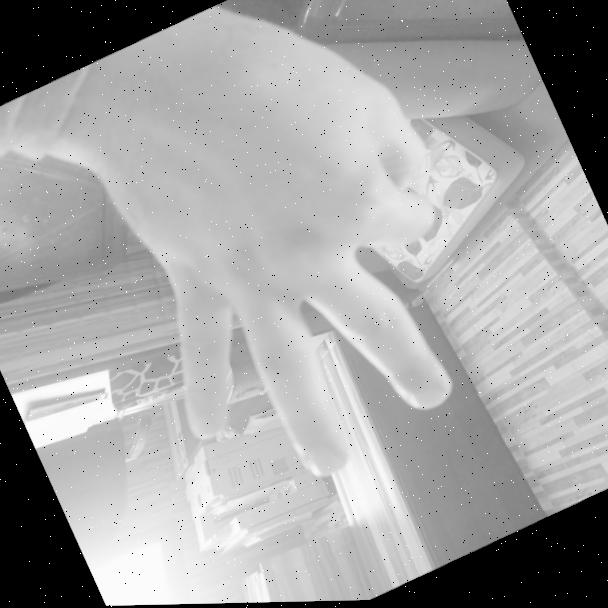five: (71, 31, 544, 532)
